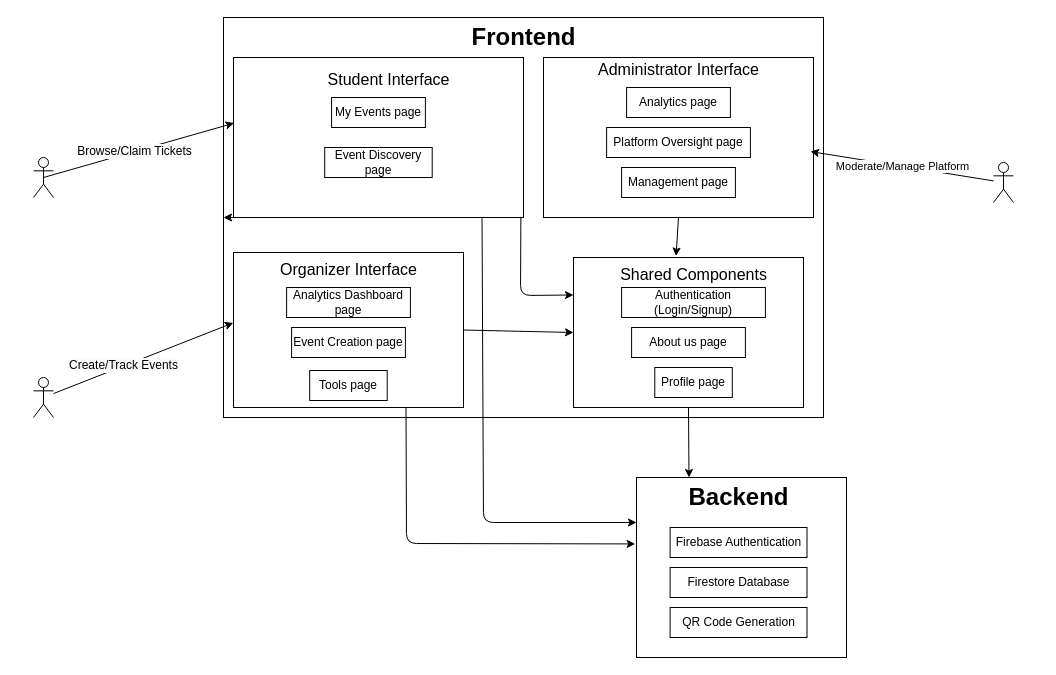
Image size: 1056x675. Some labels were removed from this diagram. The shapes that lost their labels are listed below. From the top down, each one's centre as x and y in pixels, then its label:
At (x=43, y=177): "Student".
At (x=1003, y=182): "Administrator".
At (x=43, y=397): "Organizer".
